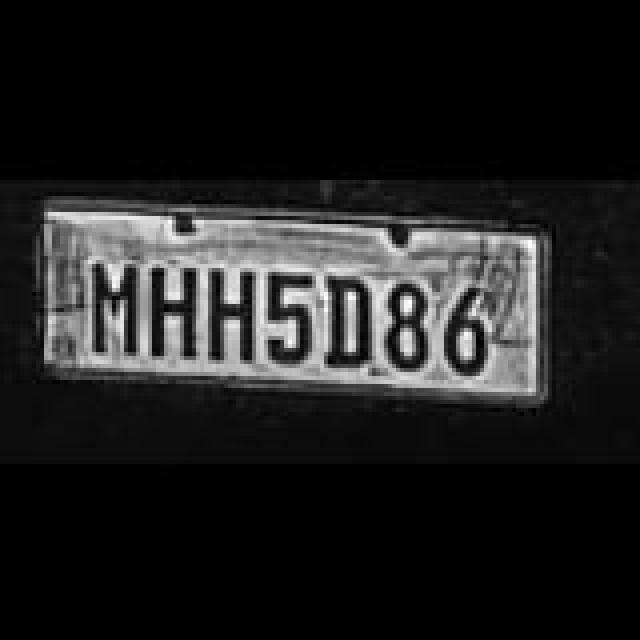5: (266, 270, 318, 362)
6: (446, 282, 490, 374)
8: (384, 278, 432, 370)
D: (324, 272, 372, 368)
H: (206, 266, 258, 358), (152, 260, 200, 356)
M: (92, 260, 140, 356)
